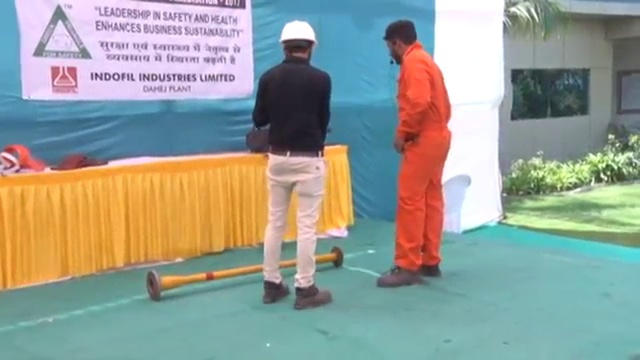helmet: (279, 19, 318, 46)
helmet_off: (384, 18, 418, 69)
helmet_on: (275, 18, 318, 61)
person: (254, 18, 334, 309), (379, 18, 446, 290)
